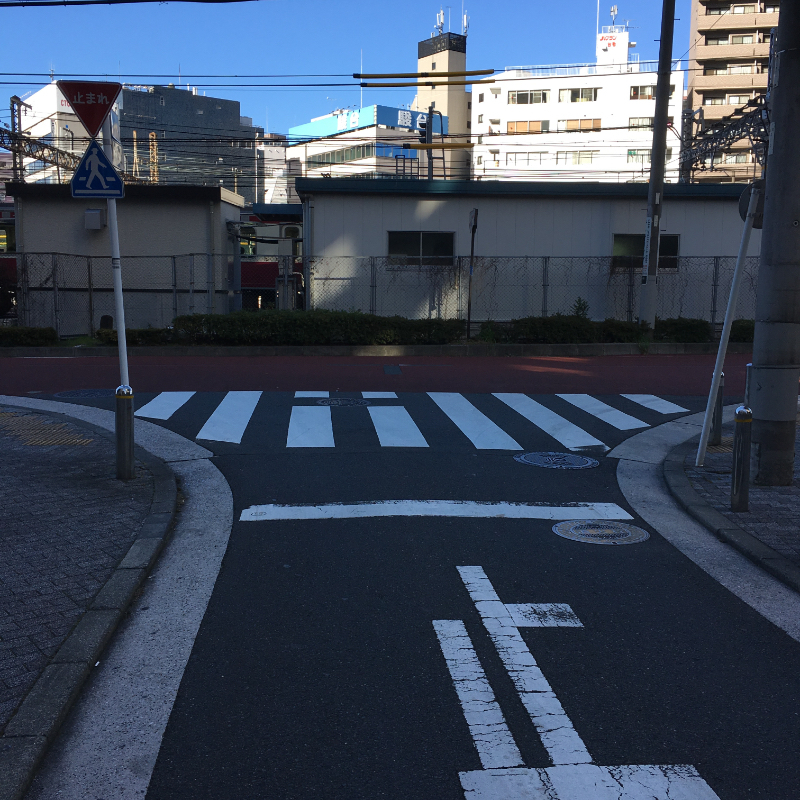STOP: (49, 76, 127, 141)
